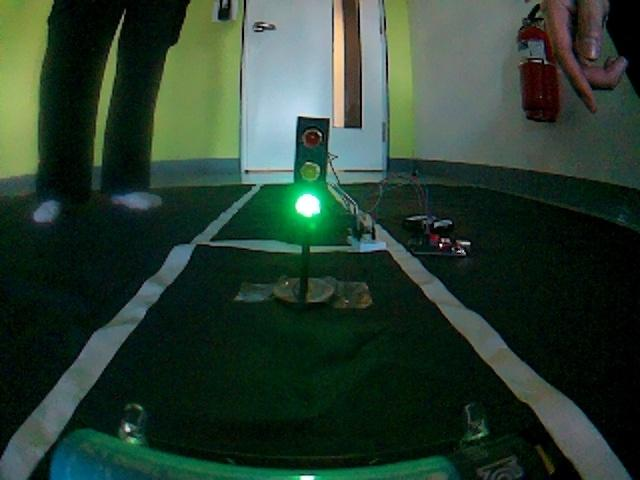go: (27, 330, 618, 480)
green_light: (231, 110, 380, 323)
